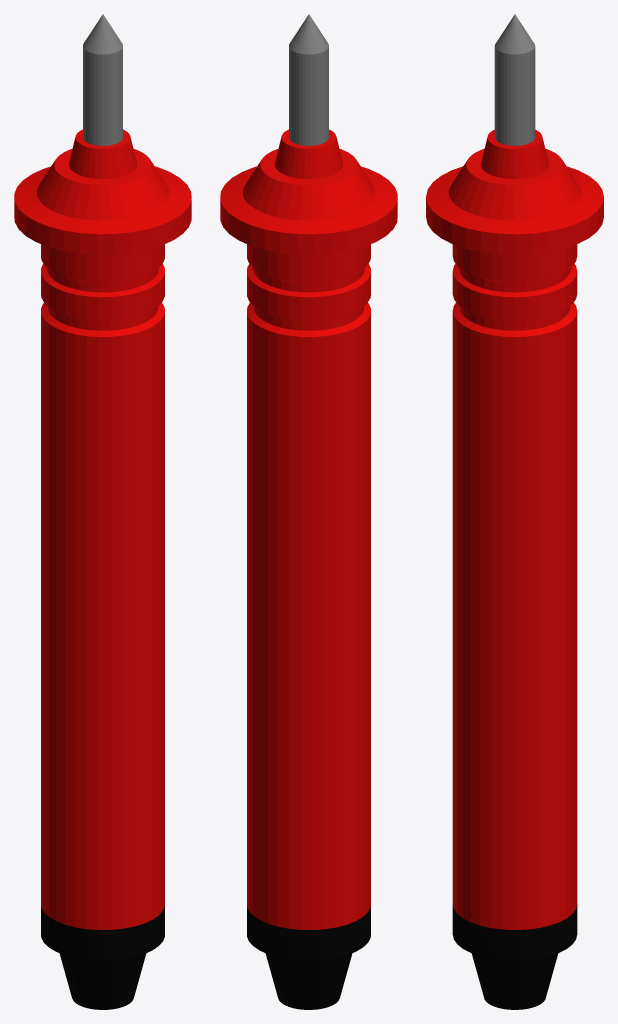
File: MultimeterPin.fbx
3 renders of one model, left to right at view 1: azimuth 30°, elevation 25°; view 2: azimuth 150°, elevation 25°; view 3: azimuth 270°, elevation 25°, orthographic.
Parts seen in each view (by area): view 1: Cylinder; view 2: Cylinder; view 3: Cylinder.
Part boxes in pixels (x1,y1,x2,y2): Cylinder: (14, 14, 191, 1009); Cylinder: (220, 14, 397, 1009); Cylinder: (426, 14, 603, 1009).
Size of the model in its own units: 42.55 by 259 by 42.55.
